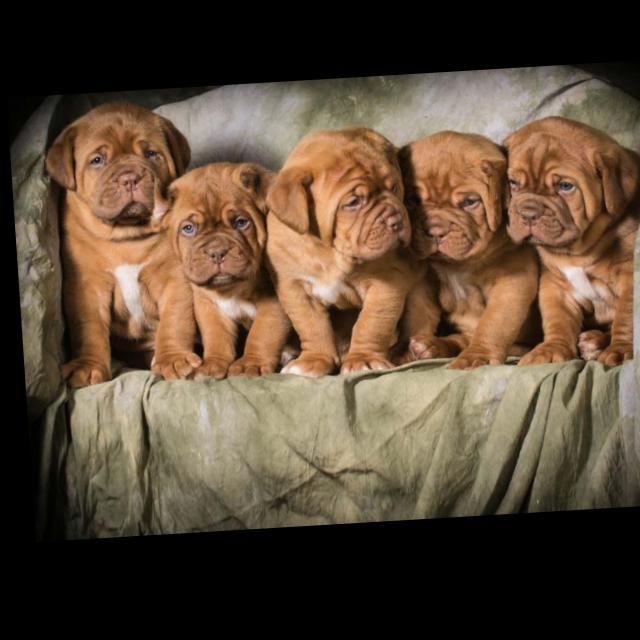dogue_de_bordeaux: (39, 99, 202, 391), (255, 127, 430, 384), (383, 132, 540, 380), (496, 119, 640, 380), (148, 161, 293, 386)
